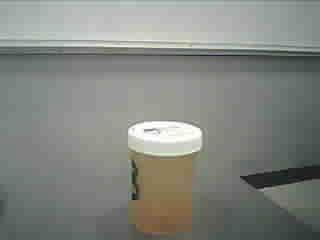Bottle B: (128, 121, 203, 237)
